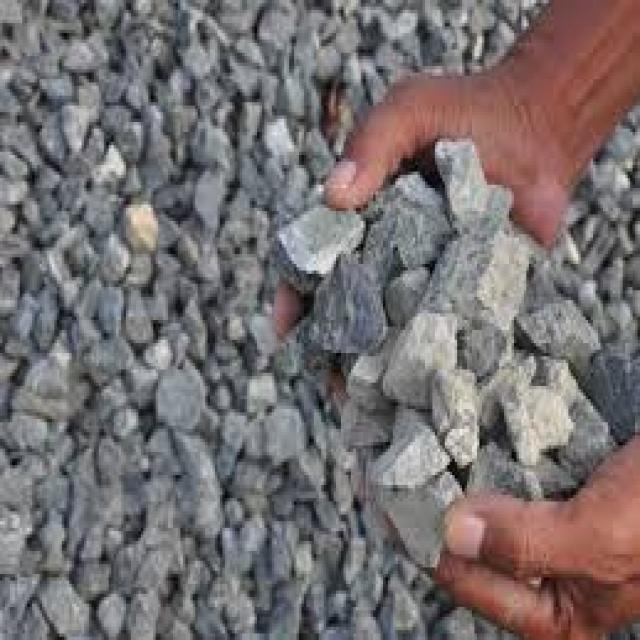Pecahan Agregat: (233, 95, 627, 552)
